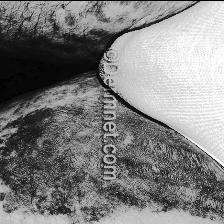Toxin: (0, 97, 100, 224), (124, 140, 190, 224), (78, 0, 166, 25)
